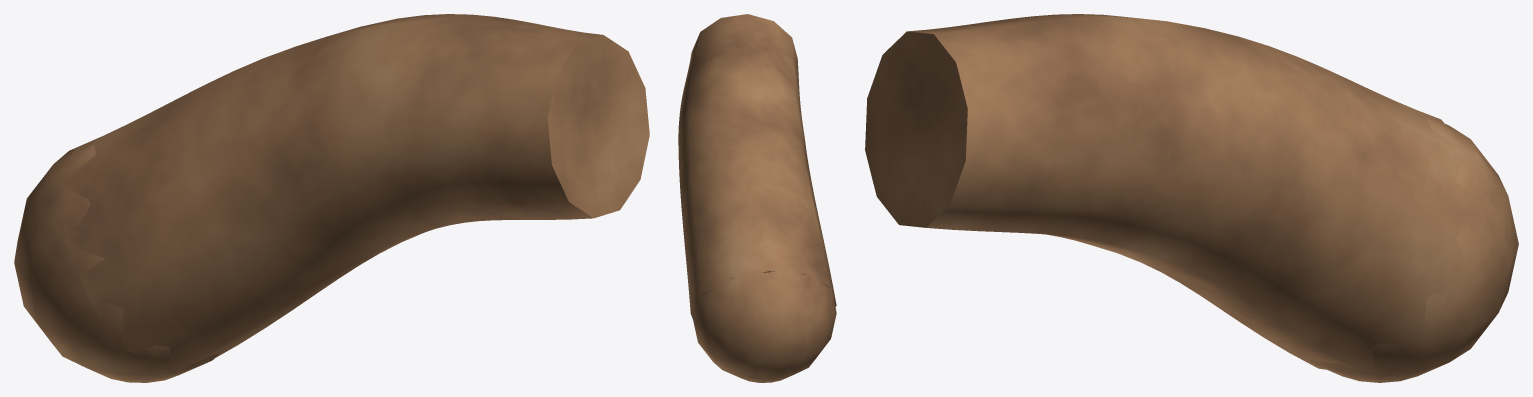
File: headcrab_muslo_del_izq.obj
3 views of the same model, side by side, from view 1: azimuth 30°, elevation 25°; view 2: azimuth 150°, elevation 25°; view 3: azimuth 270°, elevation 25° (orthographic). The views are drawn at different scales.
Parts seen in each view (by area): view 1: muslo_del_izq; view 2: muslo_del_izq; view 3: muslo_del_izq.
Boxes of the visible parts, bbox=[...] form: muslo_del_izq: bbox=[14, 14, 649, 382]; muslo_del_izq: bbox=[678, 14, 836, 382]; muslo_del_izq: bbox=[865, 14, 1518, 382].
Size of the model in its own units: 0.1386 by 0.1312 by 0.1693.
